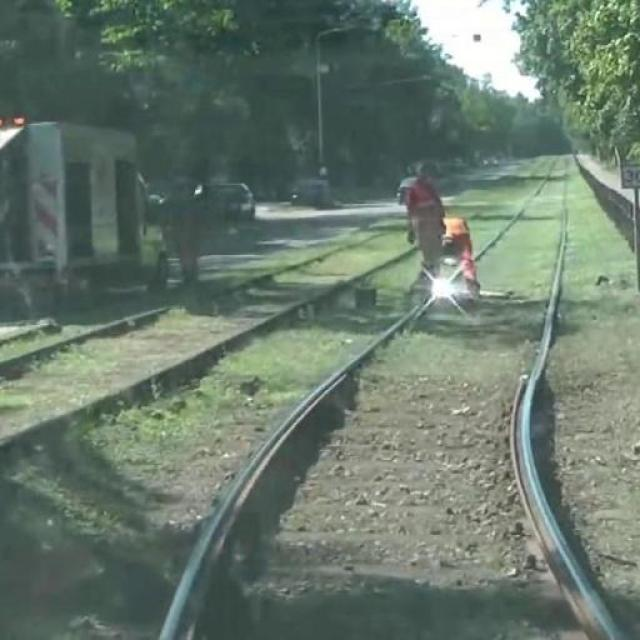people: (401, 160, 450, 315), (169, 172, 209, 286), (450, 212, 492, 304)
